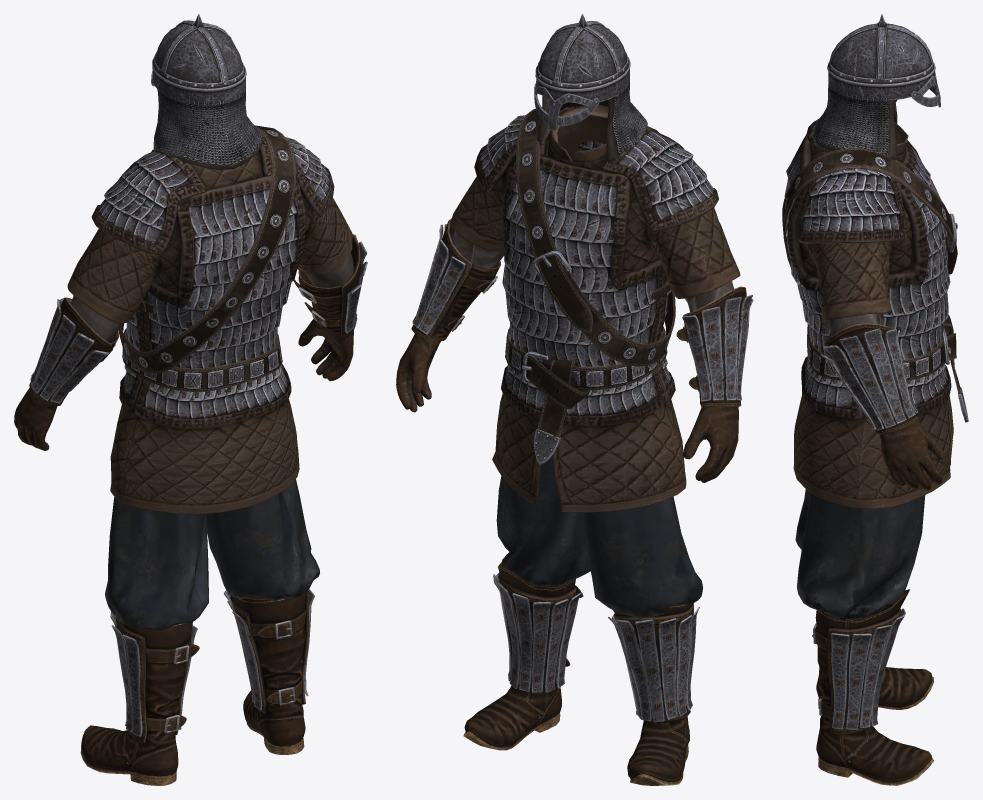
Rendered from north_lamellar.glb.
3 renders of one model, left to right at view 1: azimuth 30°, elevation 25°; view 2: azimuth 150°, elevation 25°; view 3: azimuth 270°, elevation 25°, orthographic. The views are drawn at different scales.
Parts seen in each view (by area): view 1: outfit; view 2: outfit; view 3: outfit.
Boxes of the visible parts, box(x1,y1,x2,y2) form: outfit: box(14, 14, 367, 785); outfit: box(396, 14, 753, 785); outfit: box(782, 14, 968, 785).
Size of the model in its own units: 0.8418 by 1.8 by 0.4197.
3 materials, 3 textured.
